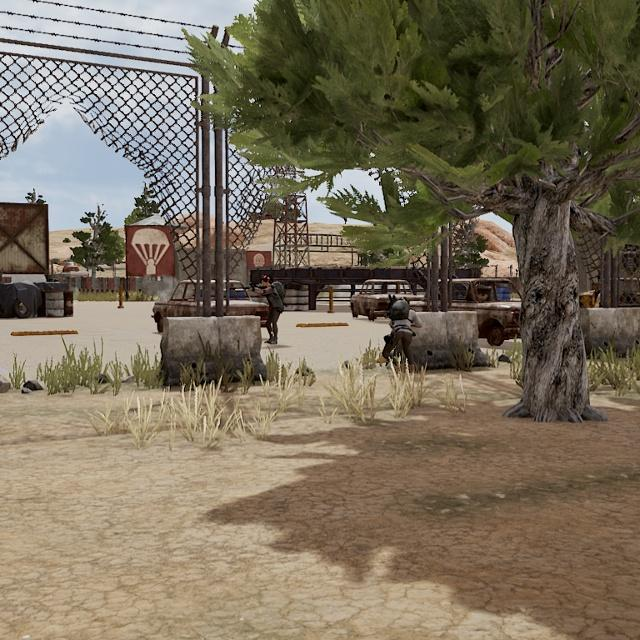head: (398, 296, 413, 309), (261, 274, 272, 288)
people: (382, 295, 417, 373), (259, 274, 286, 345)
